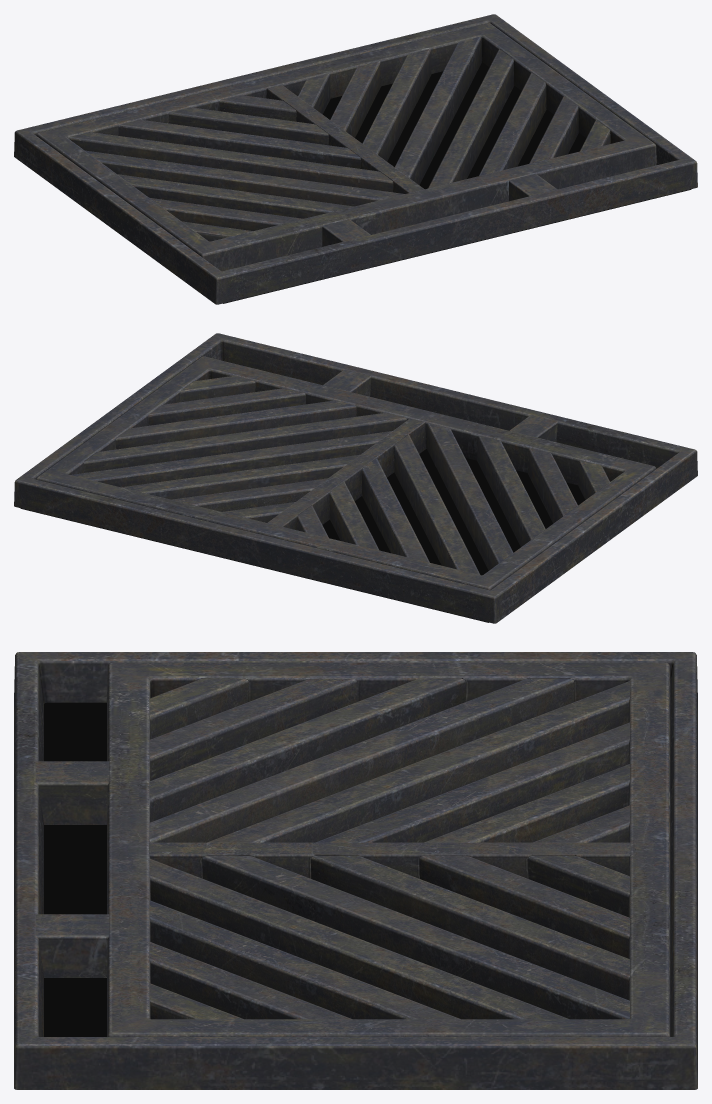
Rendered from Sewer_Grate.glb.
The picture shows the model from 3 angles, top to bottom: view 1: azimuth 30°, elevation 25°; view 2: azimuth 150°, elevation 25°; view 3: azimuth 270°, elevation 25°; orthographic projection. The views are drawn at different scales.
Visible parts, largest first — view 1: Sewer_Grate__LOD3; view 2: Sewer_Grate__LOD3; view 3: Sewer_Grate__LOD3.
Part boxes in pixels (x1,y1,x2,y2): Sewer_Grate__LOD3: (14, 14, 697, 304); Sewer_Grate__LOD3: (14, 333, 697, 623); Sewer_Grate__LOD3: (14, 652, 697, 1089).
Bounding box in the file's own units: 0.6481 × 0.0345 × 0.4733.
1 material, 1 textured.
